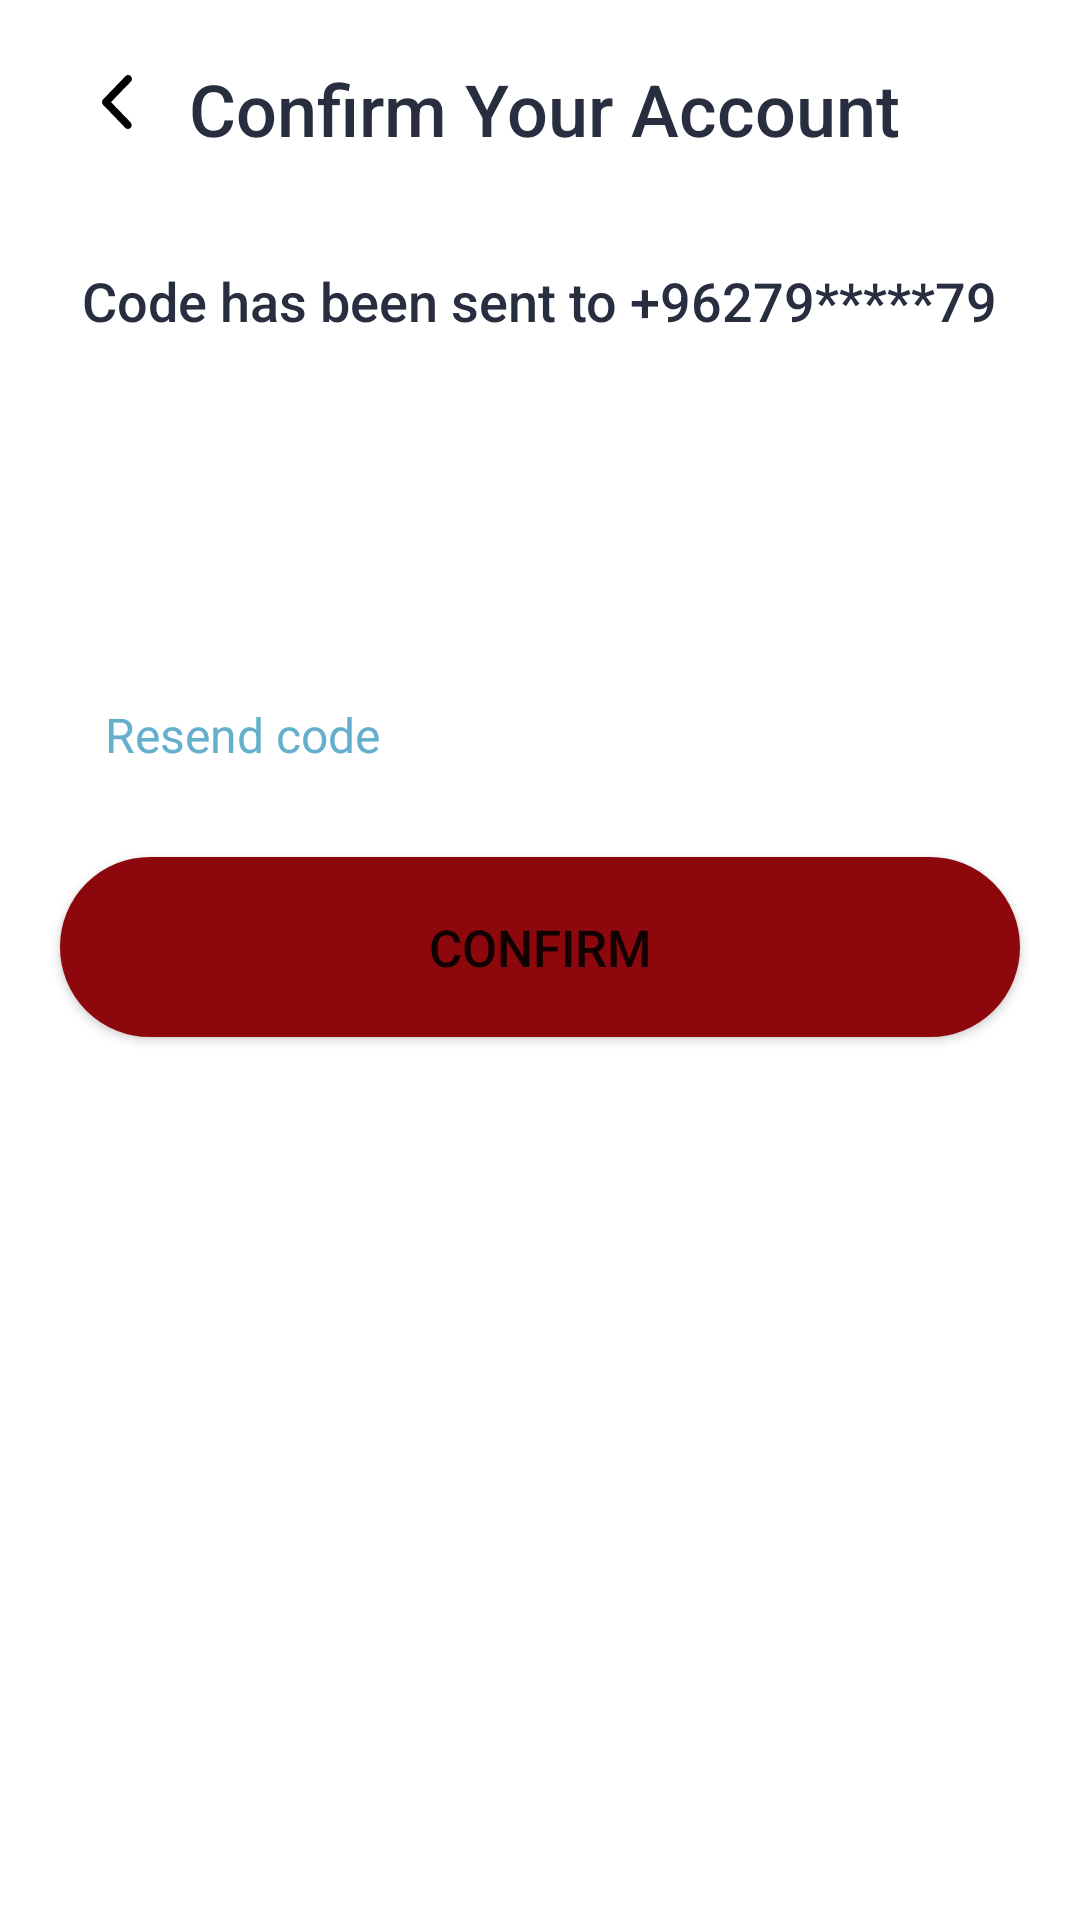

Named icons in this screenshot (1080w x 1920h) and their centers, (x,y):
arrowback: (117,102)
